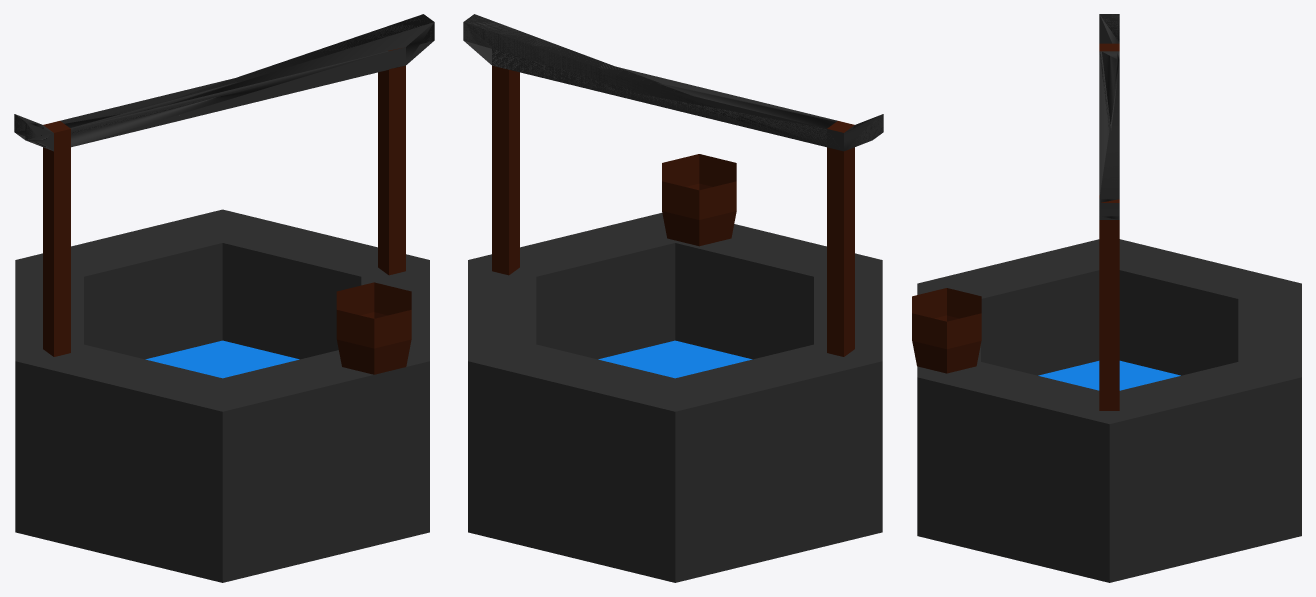
File: pozo.FBX
The picture shows the model from 3 angles, left to right: view 1: azimuth 30°, elevation 25°; view 2: azimuth 150°, elevation 25°; view 3: azimuth 270°, elevation 25°; orthographic projection. The views are drawn at different scales.
Parts seen in each view (by area): view 1: POZO; view 2: POZO; view 3: POZO.
Boxes of the visible parts, <box> form: POZO: <box>14,14,434,582</box>; POZO: <box>463,14,883,582</box>; POZO: <box>912,14,1301,582</box>.
Bounding box in the file's own units: 71.66 × 68.31 × 62.92.
